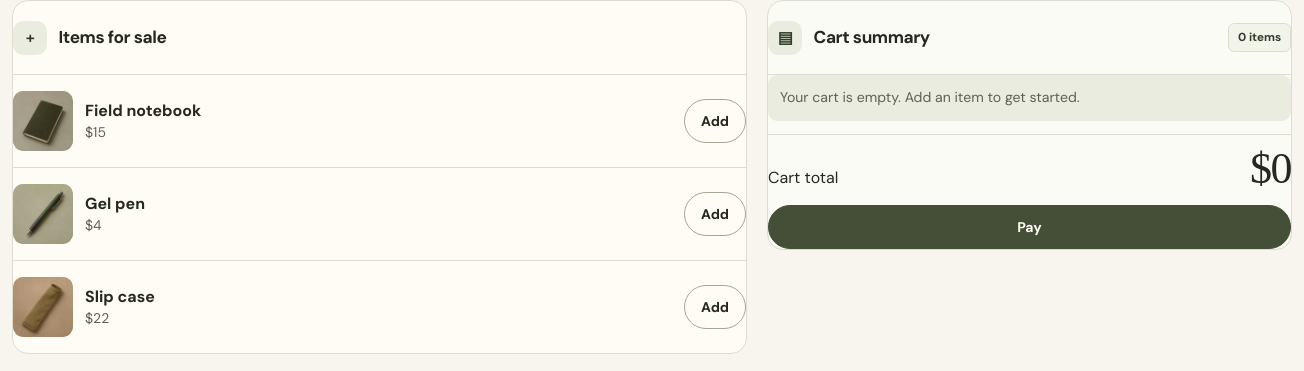
Test: CheckoutClient › adds, changes, and removes lines; Cart total updates immediately
Check: the text named "Cart total" reads "$0", box [1250,144,1291,193]
Click the button with aria-label "Add Field notebook" at (715, 121), box [684,99,746,143]
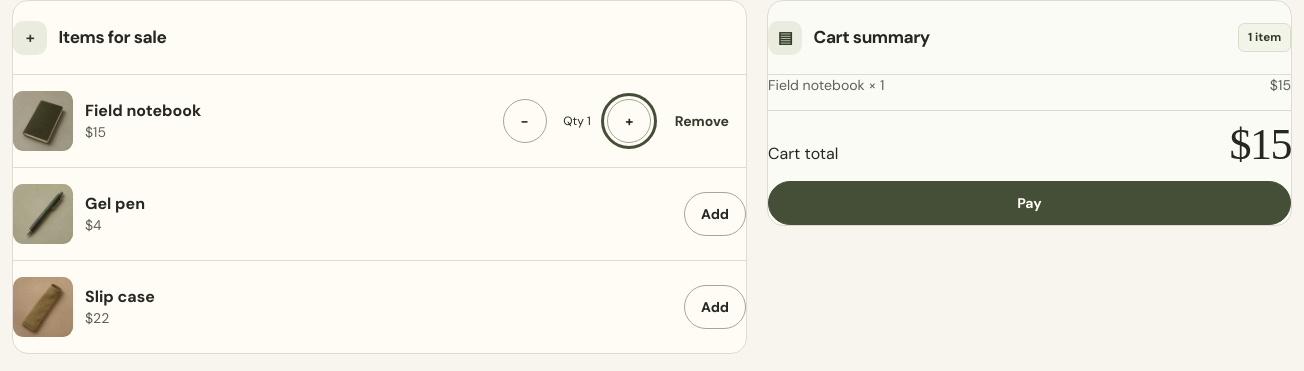
Check: the text named "Field notebook quantity" reads "1", box [587,113,591,129]
Click the button named "Increase Field notebook" at (629, 121), box [607,99,651,143]
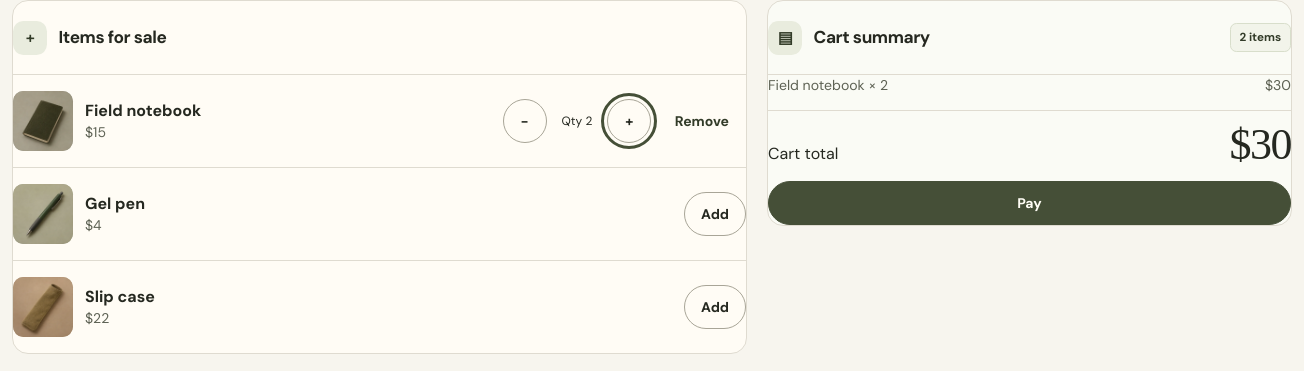
Click the button with aria-label "Add Gel pen" at (715, 214), box [684,192,746,236]
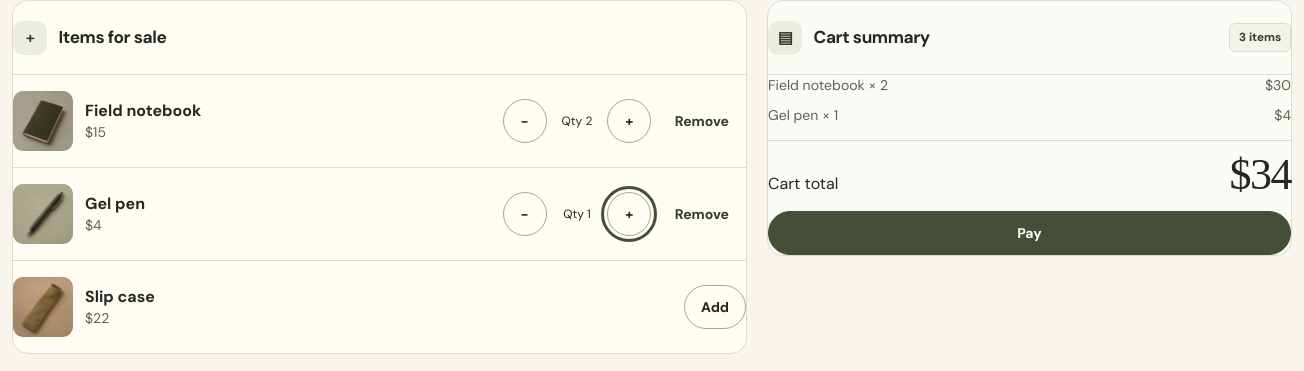
Check: the text named "Cart total" reads "$34", box [1230,150,1291,199]
Click the button named "Decrease Field notebook" at (525, 121), box [503,99,547,143]
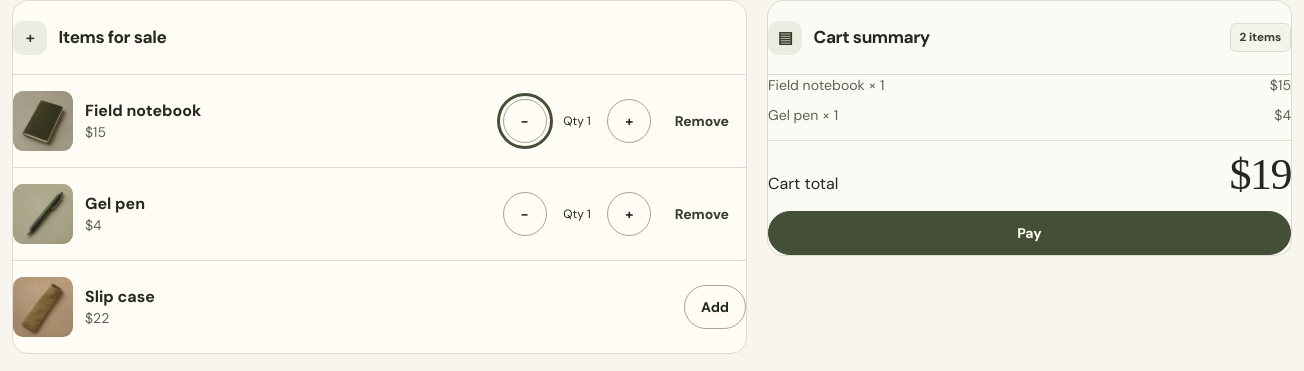
Check: the text named "Cart total" reads "$19", box [1230,150,1291,199]
Click the button named "Decrease Field notebook" at (525, 121), box [503,99,547,143]
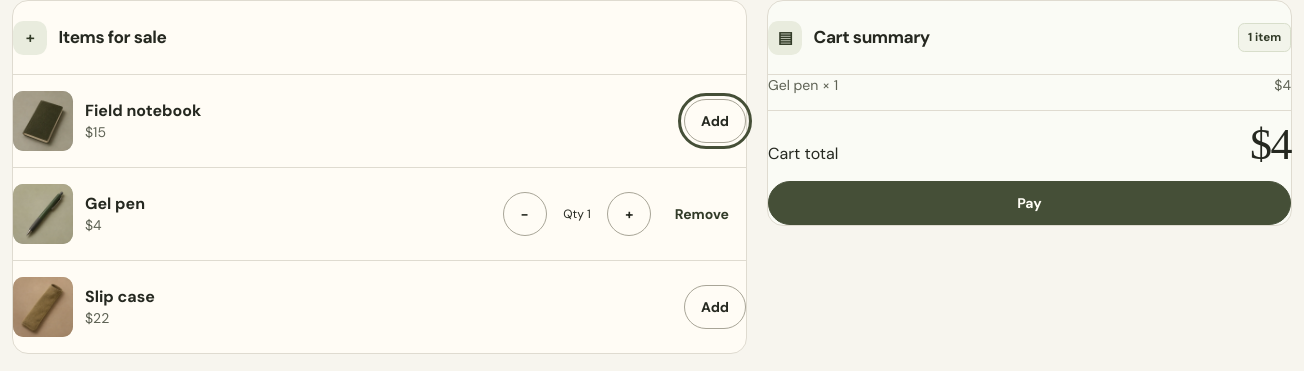
Click the button with aria-label "Remove Gel pen" at (702, 214), box [658,192,746,236]
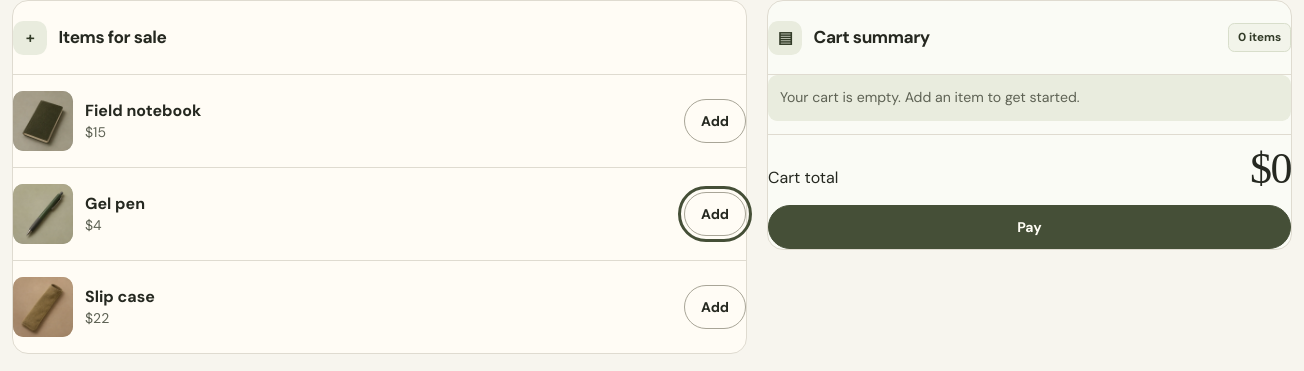
Check: the text named "Cart total" reads "$0", box [1250,144,1291,193]
